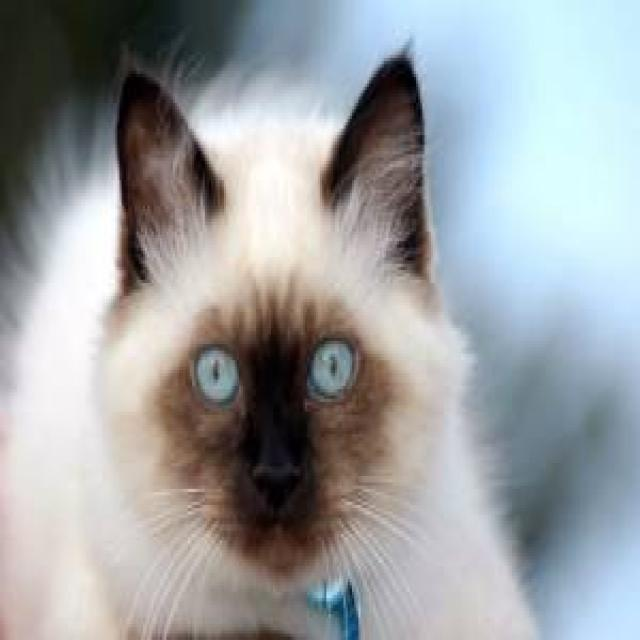Ragdoll: (101, 50, 477, 599)
